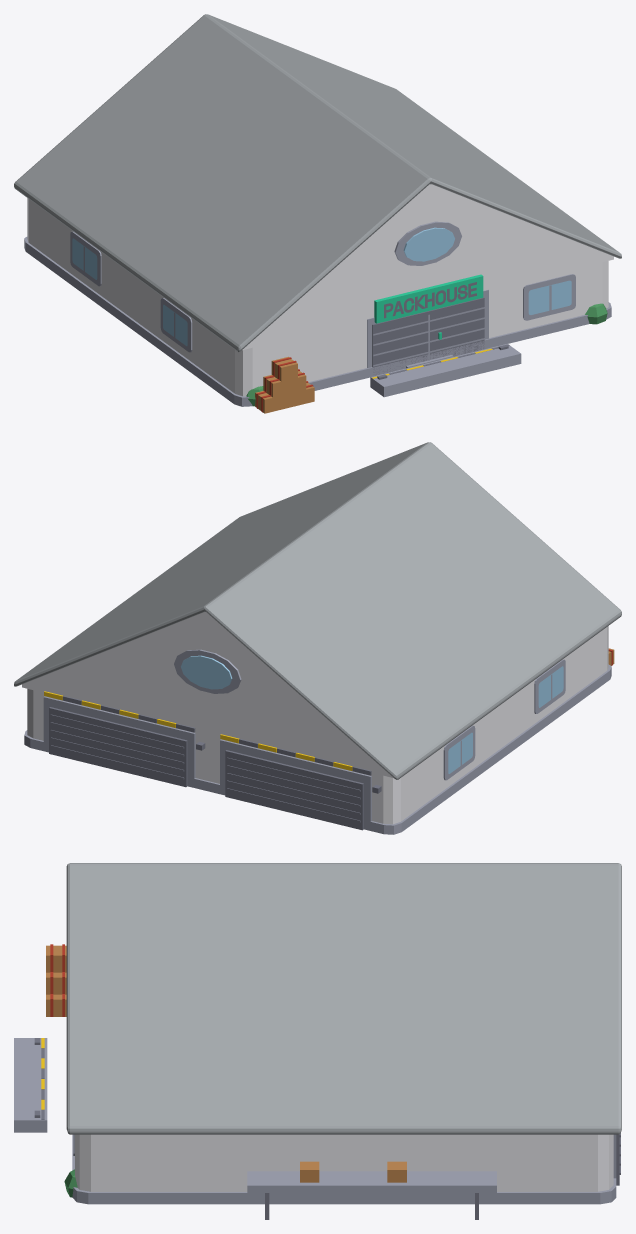
File: packhouse-2x2-t1-tone-a.glb
3 renders of one model, top to bottom at view 1: azimuth 30°, elevation 25°; view 2: azimuth 150°, elevation 25°; view 3: azimuth 270°, elevation 25°, orthographic. The views are drawn at different scales.
Visible parts, largest first — view 1: packhouse-2x2-t1-tone-a; view 2: packhouse-2x2-t1-tone-a; view 3: packhouse-2x2-t1-tone-a.
Boxes of the visible parts, x1,y1,x2,y2 form: packhouse-2x2-t1-tone-a: [14, 14, 621, 413]; packhouse-2x2-t1-tone-a: [14, 442, 621, 834]; packhouse-2x2-t1-tone-a: [14, 863, 621, 1219].
Size of the model in its own units: 2.08 by 0.9066 by 2.19.
1 material, 1 textured.
